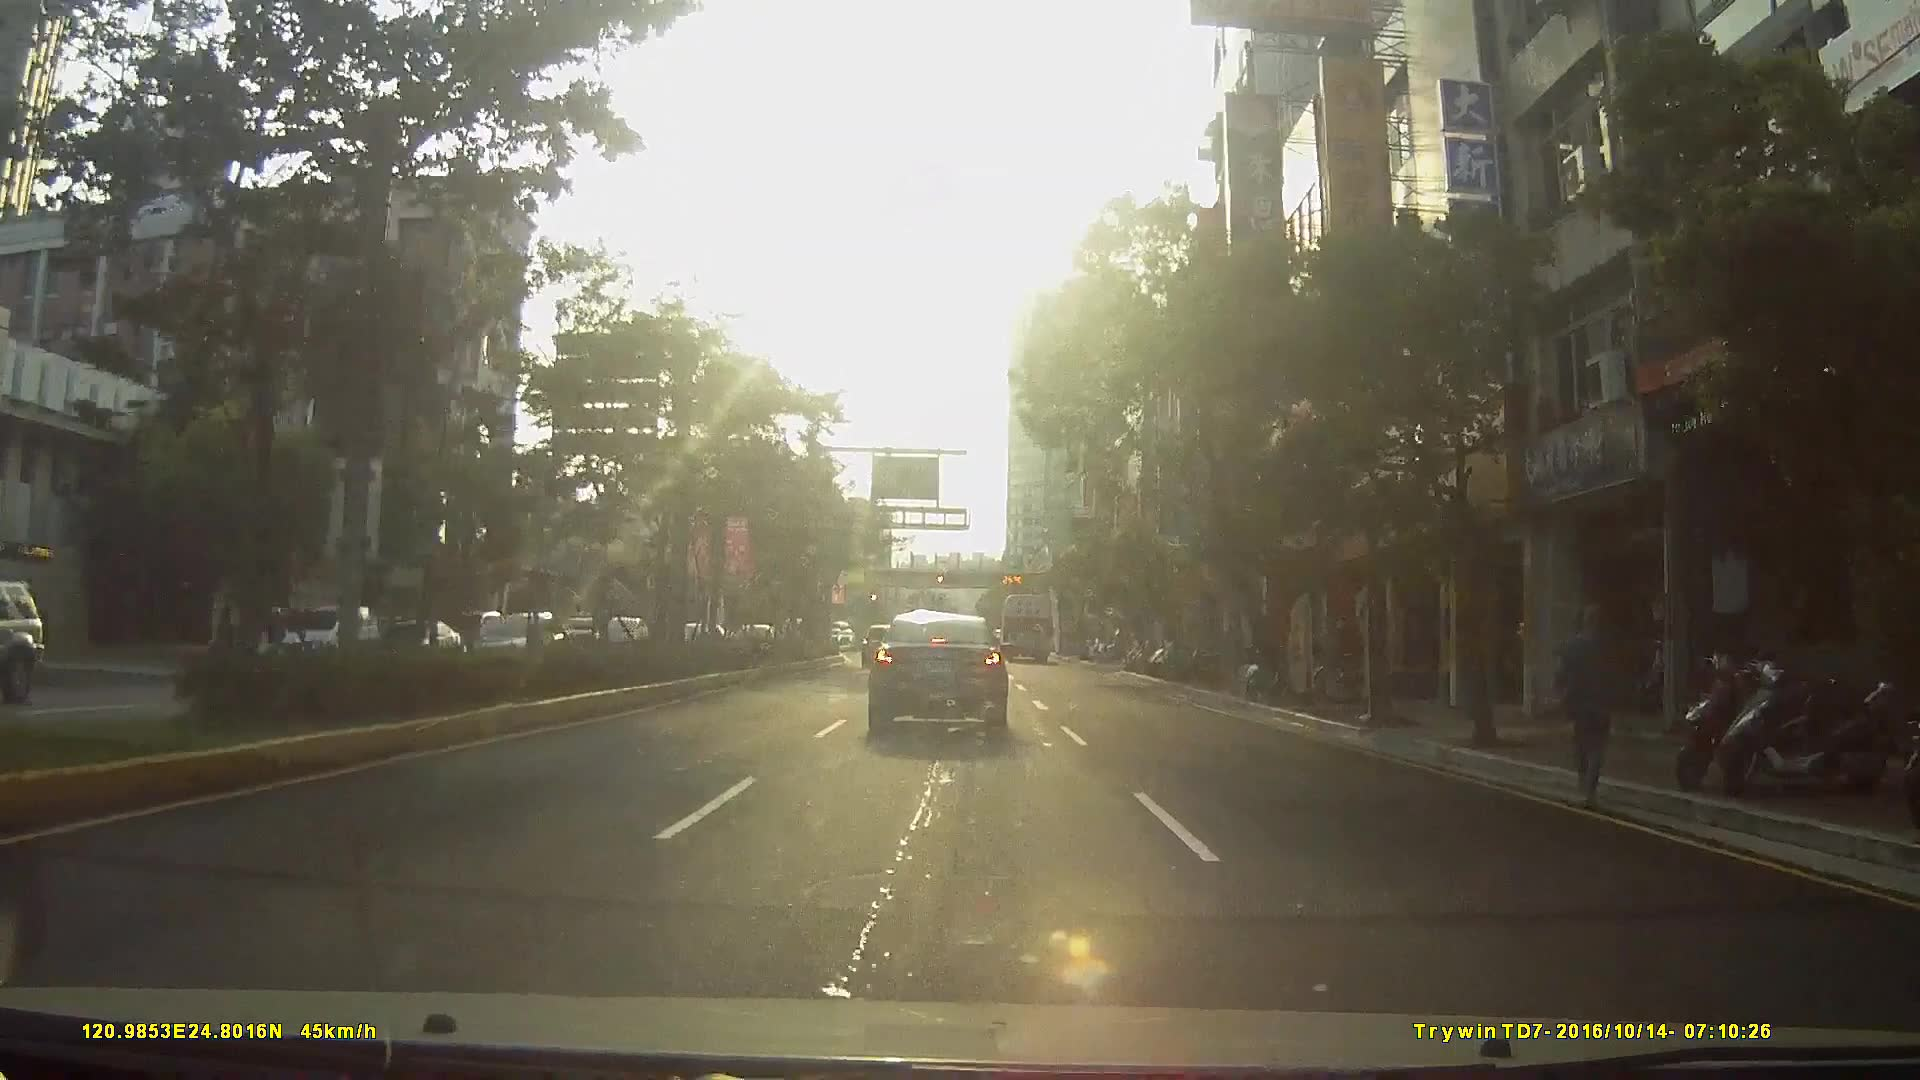pedestrian: (1563, 601, 1626, 805)
vehicle: (865, 610, 1009, 734), (1, 575, 55, 715), (271, 604, 373, 668), (997, 594, 1055, 662), (860, 623, 899, 664)
